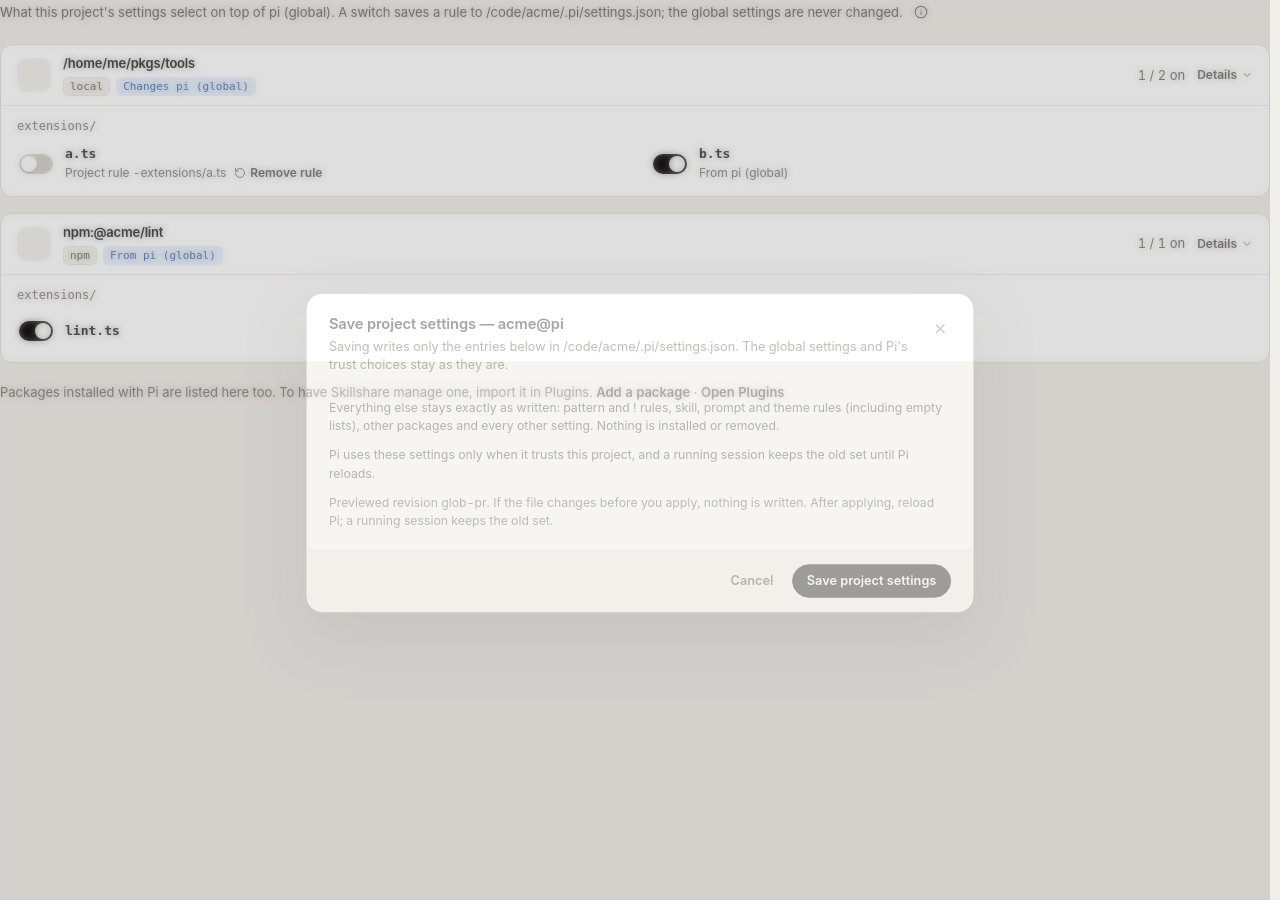
Scenario: Pi target Extensions tab › saves a project override of a global package and of the project entry, whatever Pi trusts
The image size is (1280, 900).
Expected: the text "Changes pi (global)" is shown, [116,77,256,96]
Expected: the text "From pi (global)" below "npm:@acme/lint" is shown, [110,248,216,262]
Click the button "Remove rule".
click(278, 173)  # box [234,164,322,182]
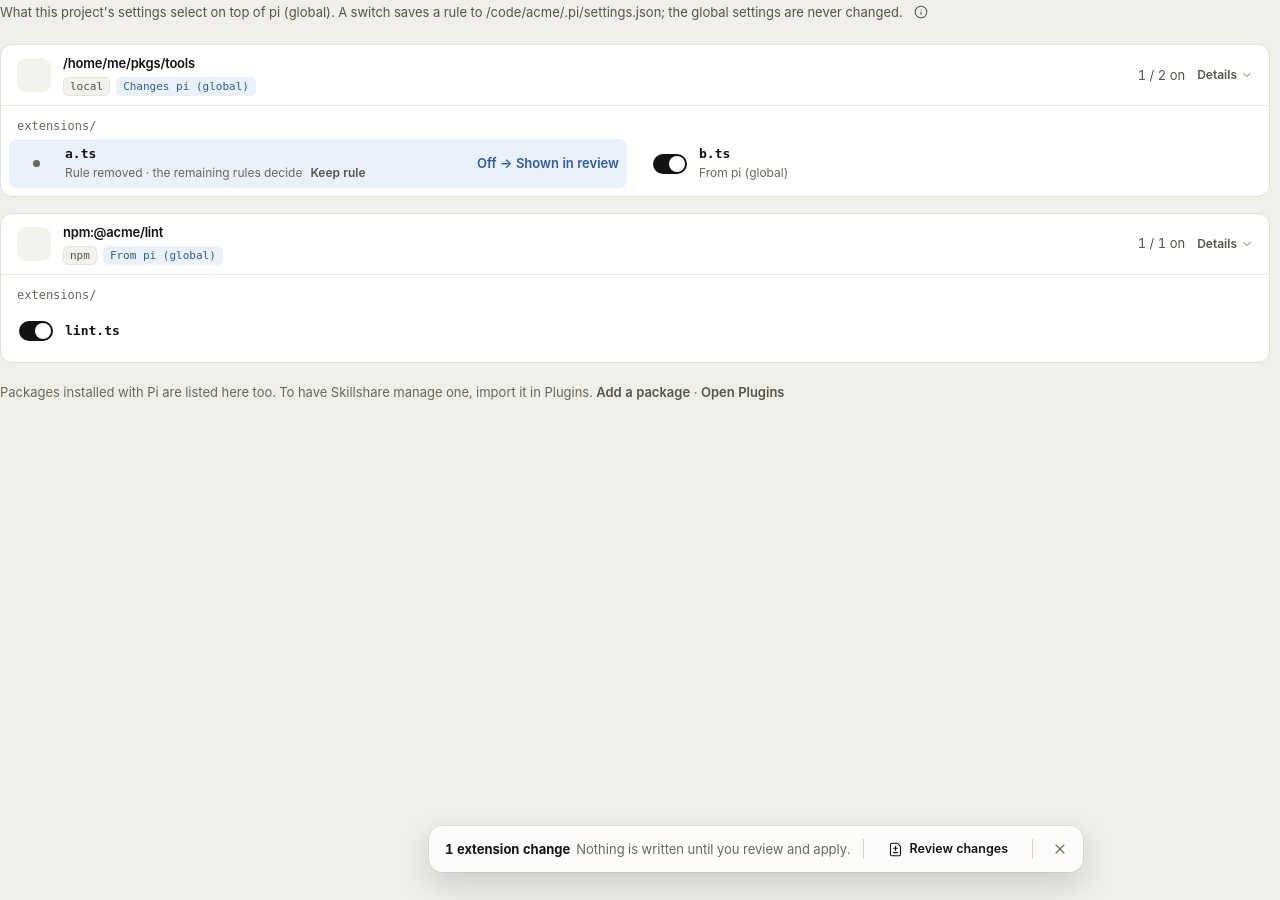
Click the switch named "Load extensions/lint.ts from npm:@acme/lint in acme@pi".
click(36, 331)  # box [17,315,55,347]
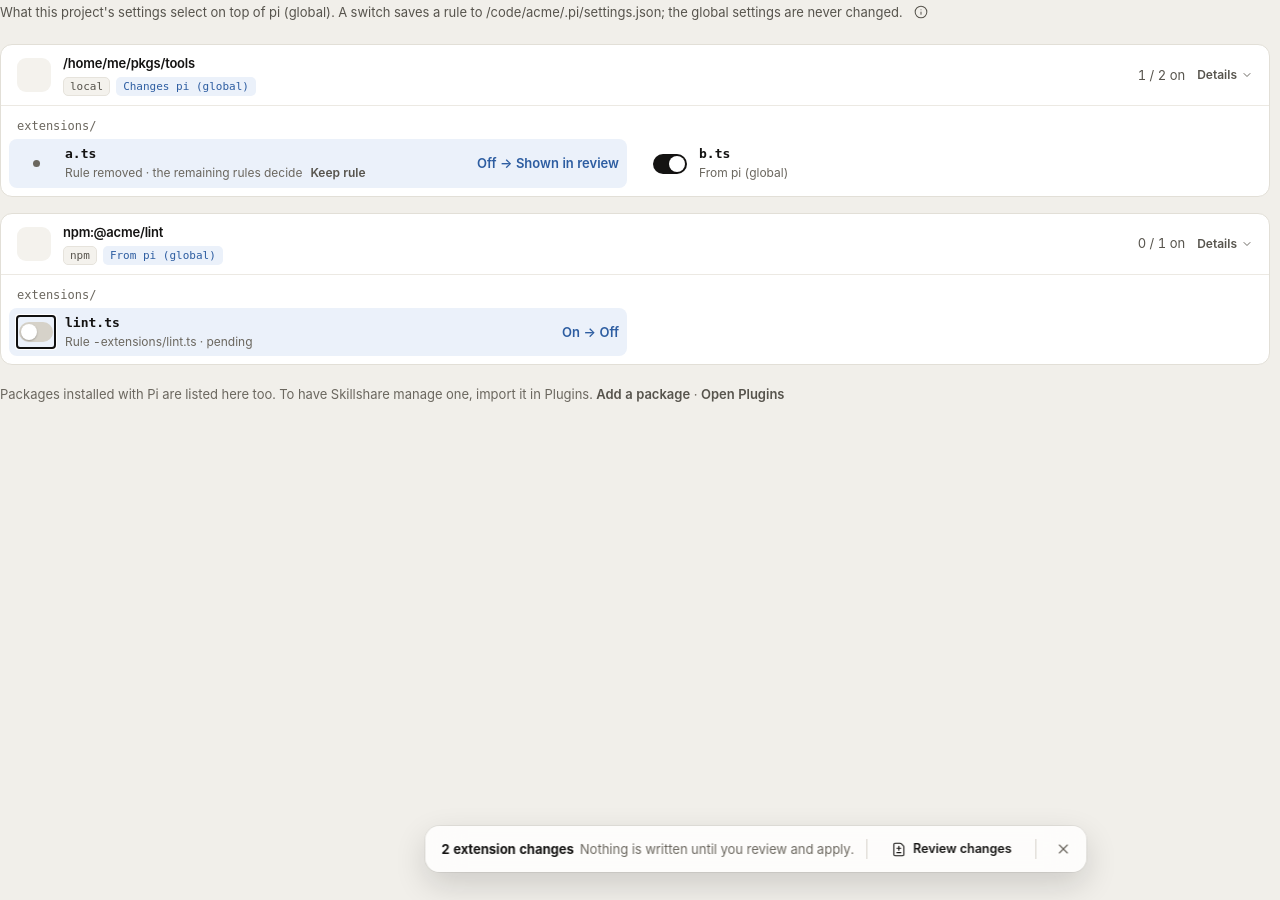
Click the button "Review changes".
click(951, 849)  # box [879,835,1024,863]
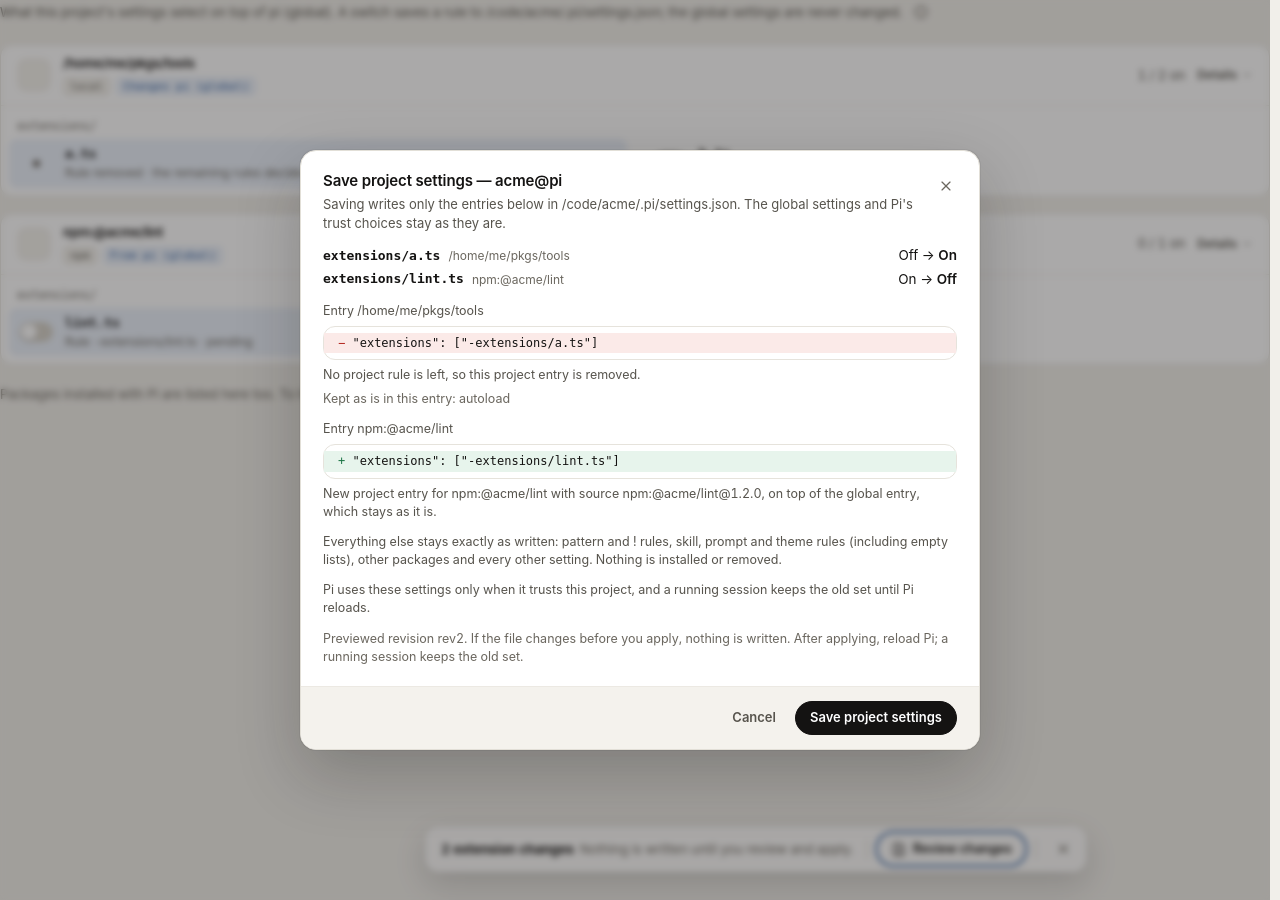
Expected: the text "New project entry for npm:@acme/lint with source npm:@acme/lint@1.2.0" is shown, [323,486,920,519]
Expected: the text "No project rule is left, so this project entry is removed." is shown, [323,367,640,382]
Expected: the text "only when it trusts this project" is shown, [323,582,914,615]
Click the button "Save project settings".
click(876, 718)  # box [795,701,957,735]
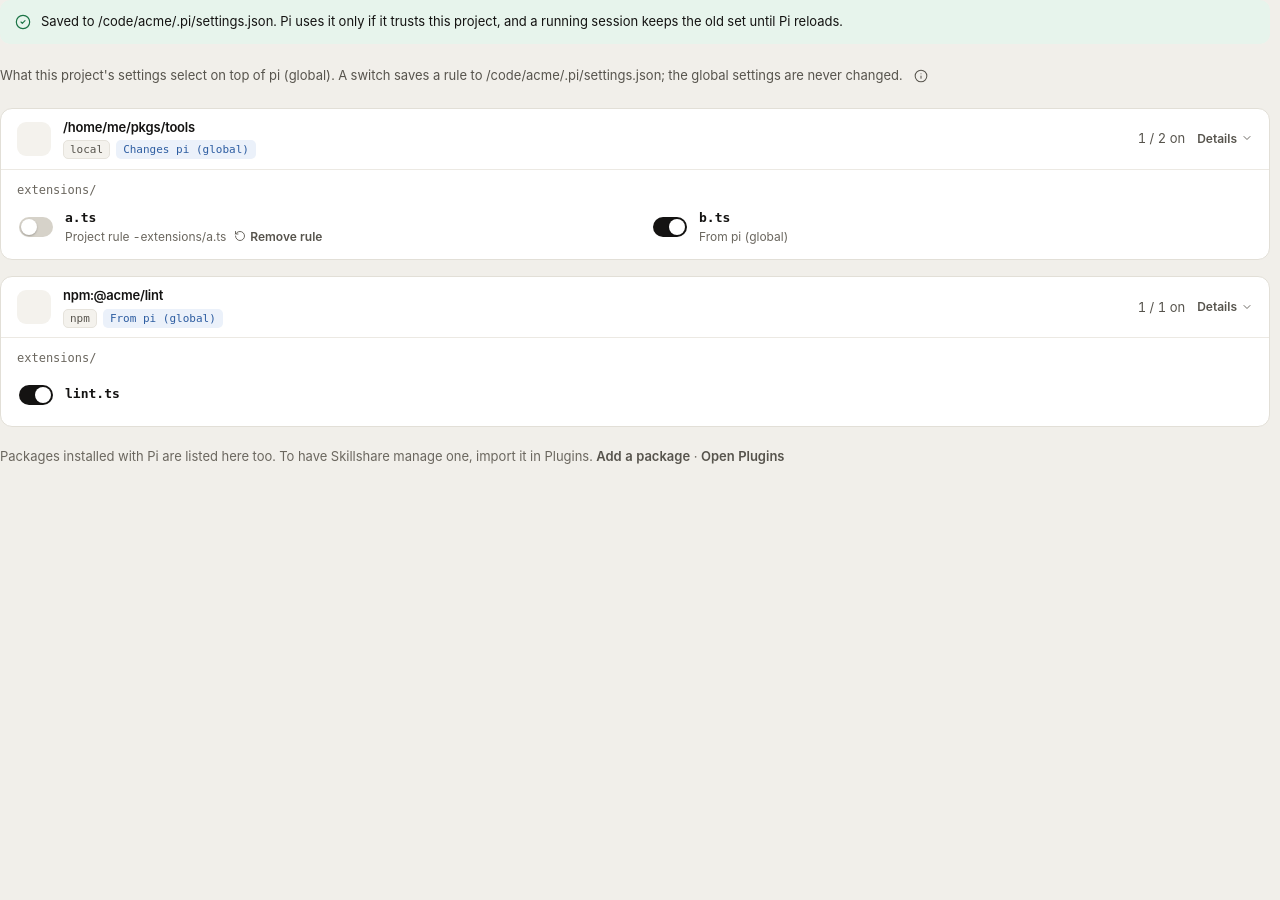
Expected: the message shows "Pi uses it only if it trusts this project", [41,13,843,29]
